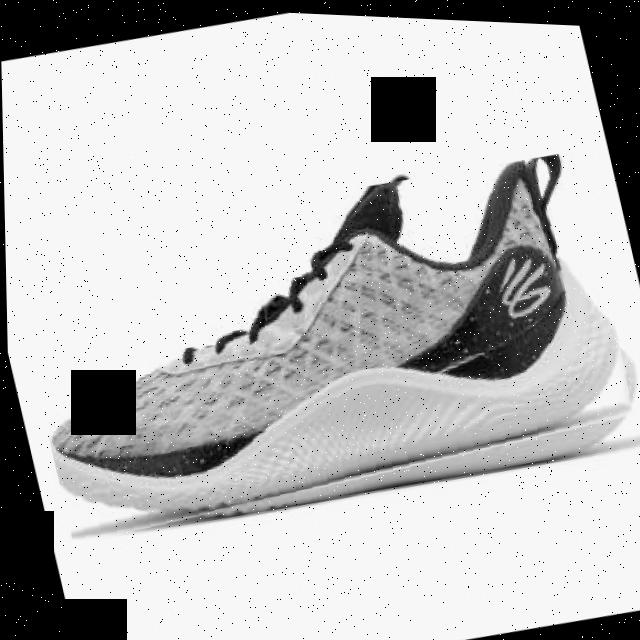shoe: (2, 123, 640, 564)
